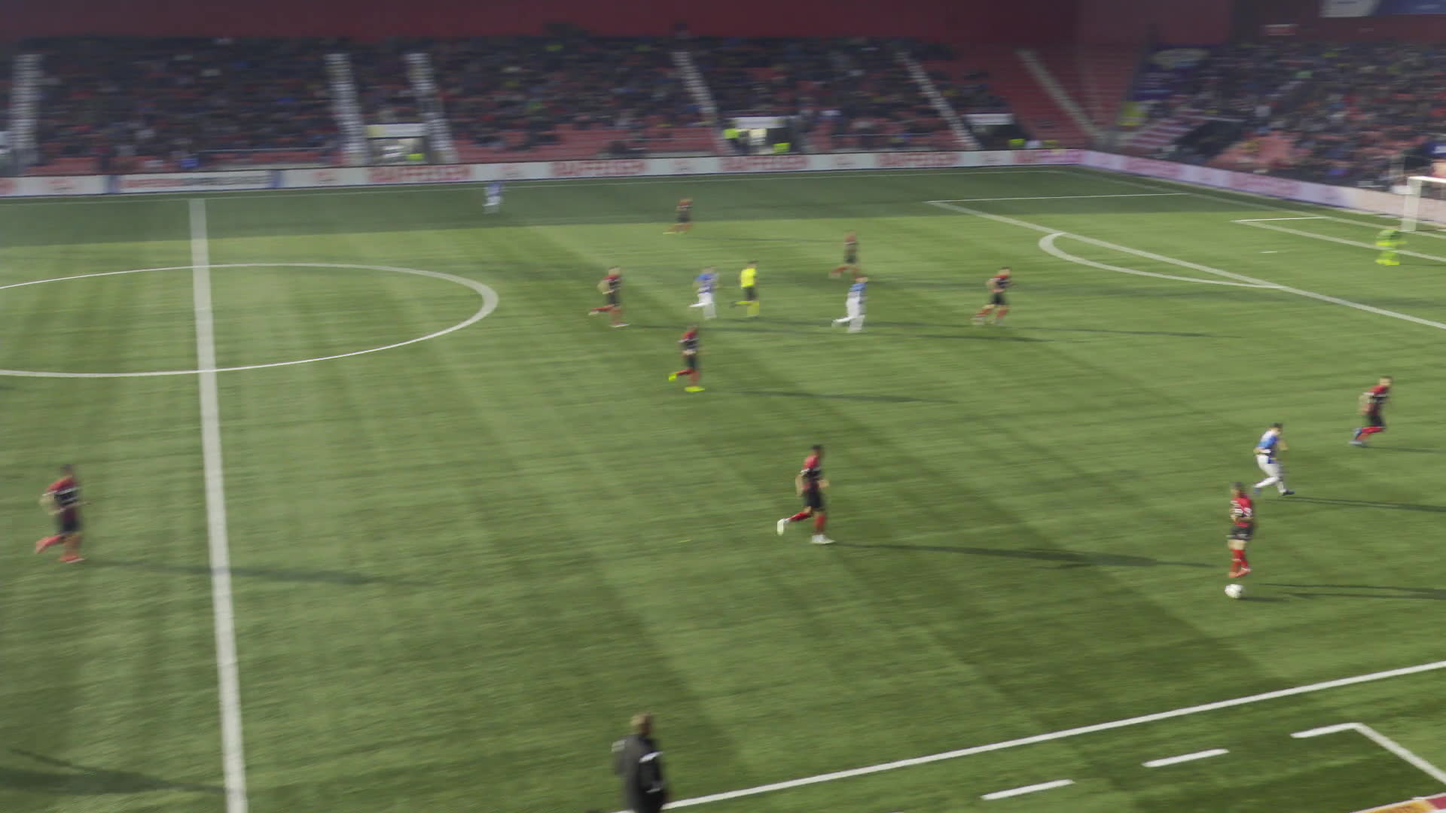ball: (1224, 583, 1243, 598)
player: (789, 438, 851, 542), (35, 463, 90, 563), (1223, 479, 1258, 580), (683, 317, 730, 388), (1250, 419, 1294, 494), (1360, 378, 1407, 445), (991, 264, 1036, 328), (611, 260, 649, 324), (831, 275, 869, 333), (845, 228, 885, 276), (695, 263, 725, 315), (684, 193, 718, 236), (1374, 216, 1401, 266), (479, 169, 505, 214)
referee: (729, 260, 759, 318)
